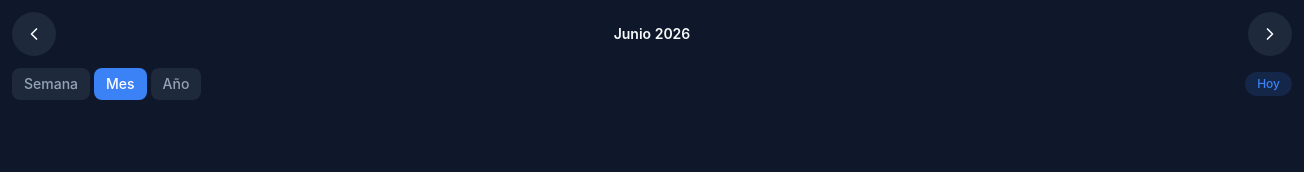
Test: PeriodoNavegacion.svelte › coherencia entre vistas (AC-22, AC-23) › Mes → Semana: usa punto medio (jueves) (AC-23)
The width and height of the screenshot is (1304, 172).
Cambiar a Semana
Click the button "Semana" at (51, 84), box [12, 68, 90, 100]
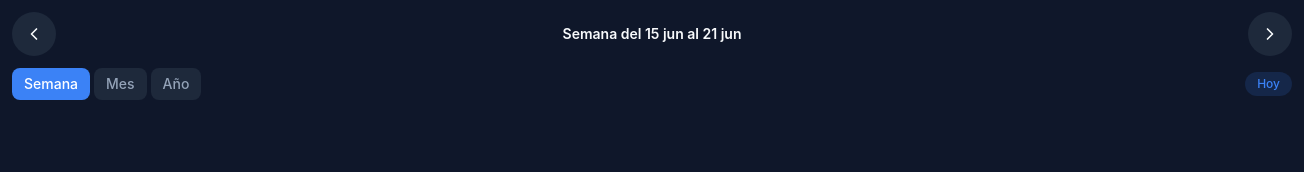
Now the button "Semana del 15 jun al 21 jun" is shown, box [60, 16, 1244, 52]
